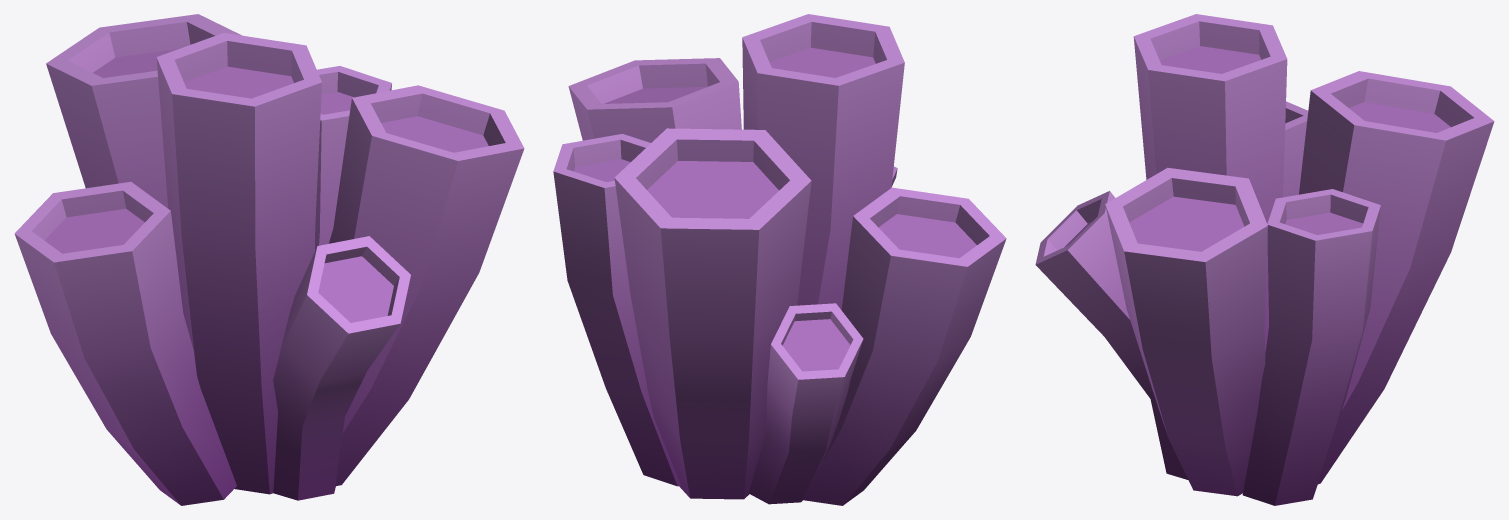
File: CoralReef_06.fbx
The picture shows the model from 3 angles, left to right: view 1: azimuth 30°, elevation 25°; view 2: azimuth 150°, elevation 25°; view 3: azimuth 270°, elevation 25°; orthographic projection. The views are drawn at different scales.
Visible parts, largest first — view 1: CoralReef_06_LOD0; view 2: CoralReef_06_LOD0; view 3: CoralReef_06_LOD0.
Boxes of the visible parts, left/top/right/bottom form: CoralReef_06_LOD0: left=14, top=14, right=524, bottom=505; CoralReef_06_LOD0: left=553, top=14, right=1006, bottom=505; CoralReef_06_LOD0: left=1035, top=14, right=1494, bottom=505.
Size of what is drawn, in the model's own units: 0.2759 by 0.2543 by 0.2635.
